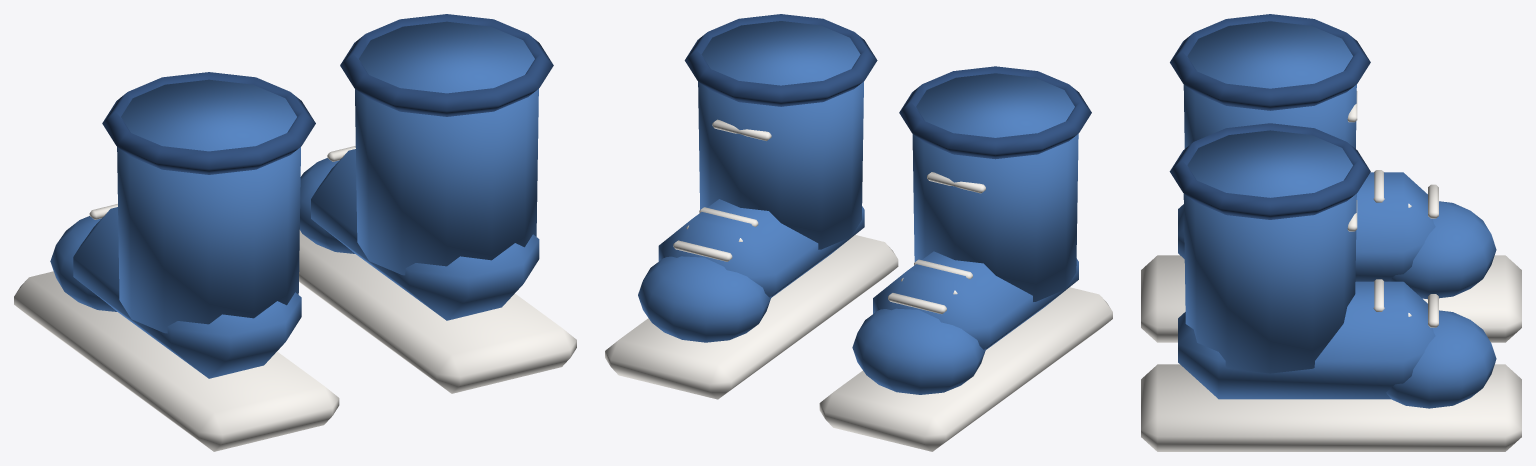
The model's file is shoes_hightops.glb.
3 renders of one model, left to right at view 1: azimuth 30°, elevation 25°; view 2: azimuth 150°, elevation 25°; view 3: azimuth 270°, elevation 25°, orthographic. The views are drawn at different scales.
Parts seen in each view (by area): view 1: ShinL, ShinR; view 2: ShinR, ShinL; view 3: ShinR, ShinL.
Boxes of the visible parts, box(x1,y1,x2,y2) form: ShinL: box(14, 72, 339, 451); ShinR: box(299, 14, 576, 393); ShinR: box(605, 14, 898, 399); ShinL: box(819, 66, 1112, 451); ShinR: box(1141, 123, 1521, 451); ShinL: box(1141, 14, 1521, 342).
Bounding box in the file's own units: 0.338 × 0.216 × 0.28.
